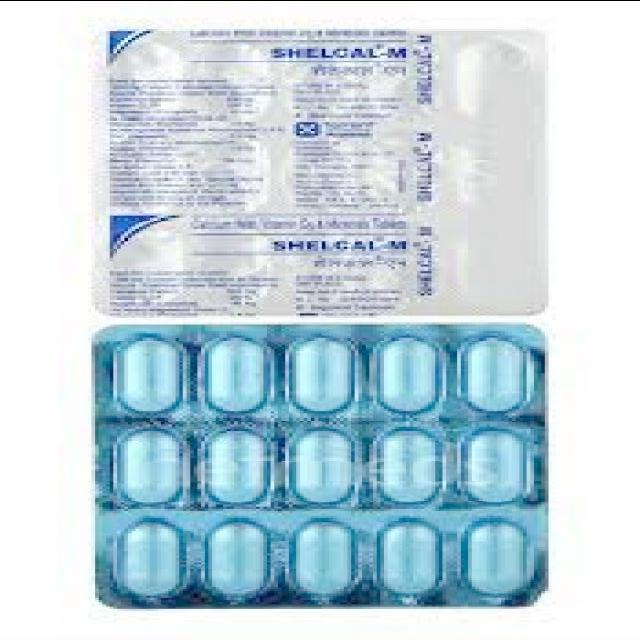authentic: (81, 18, 578, 326), (65, 320, 570, 620)
